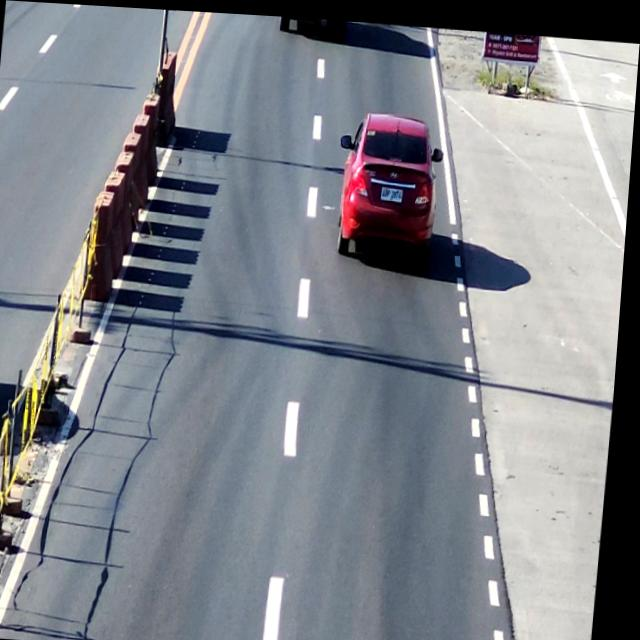Car: (332, 100, 451, 267)
License-Plate: (379, 177, 409, 204)
